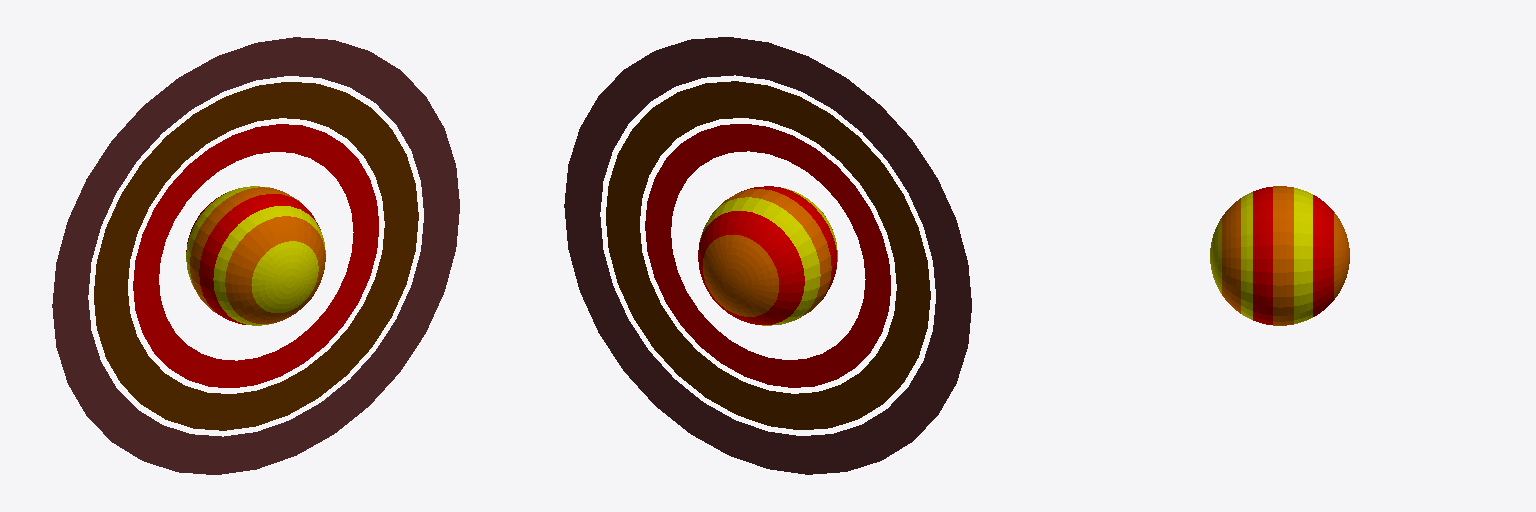
File: planet.obj
3 renders of one model, left to right at view 1: azimuth 30°, elevation 25°; view 2: azimuth 150°, elevation 25°; view 3: azimuth 270°, elevation 25°, orthographic.
Bounding box in the file's own units: 6.73 × 6.73 × 2.